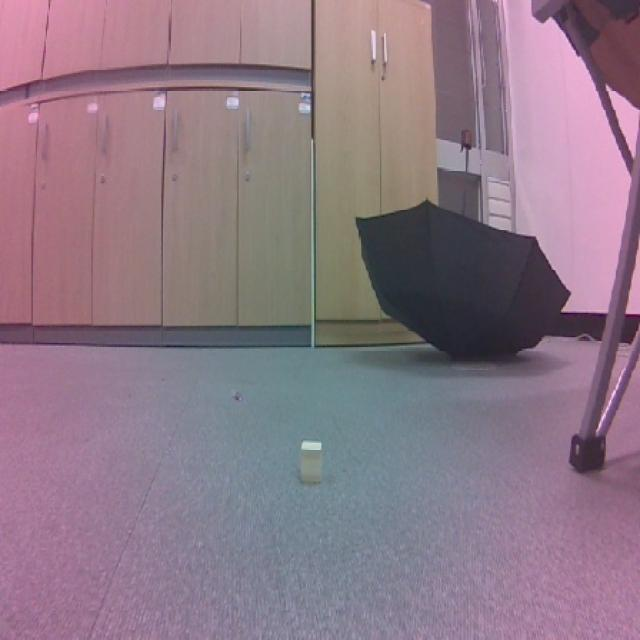obstacle: (292, 431, 330, 492)
